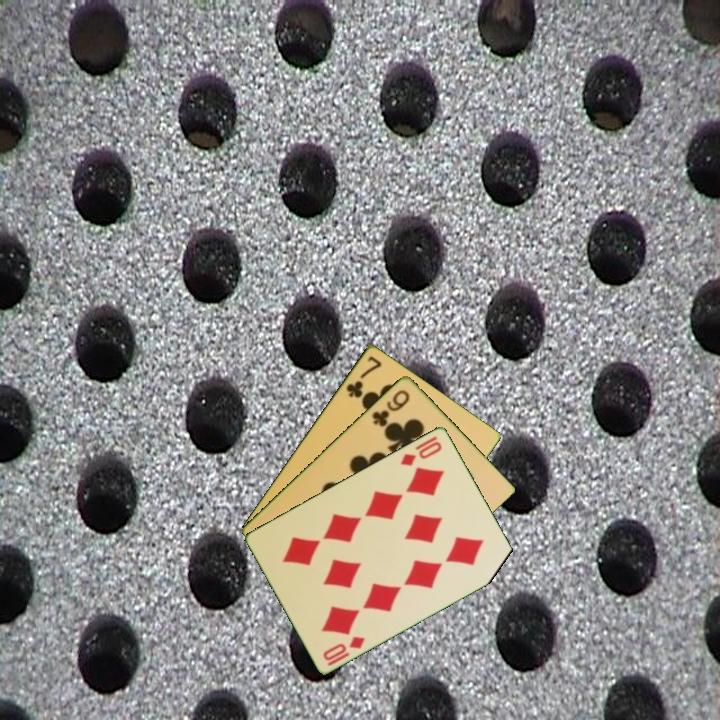10d: (319, 632, 368, 668), (397, 432, 445, 468)
7c: (342, 352, 385, 400)
9c: (368, 386, 413, 429)
